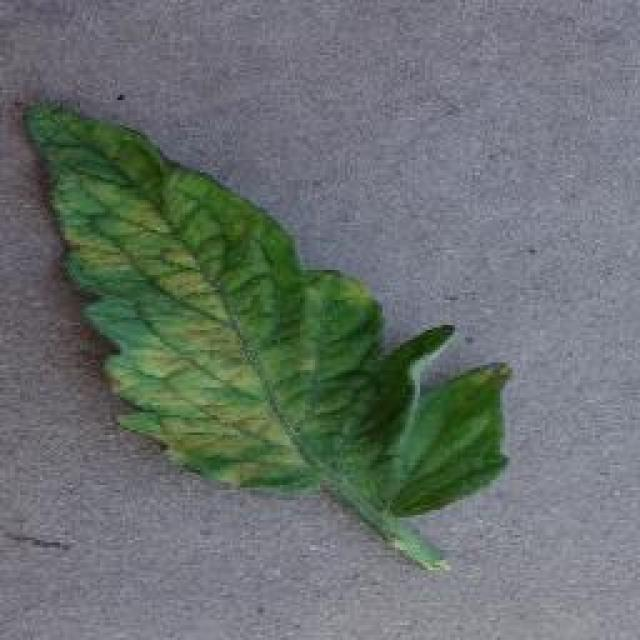Tomato mold leaf: (20, 104, 510, 514)
